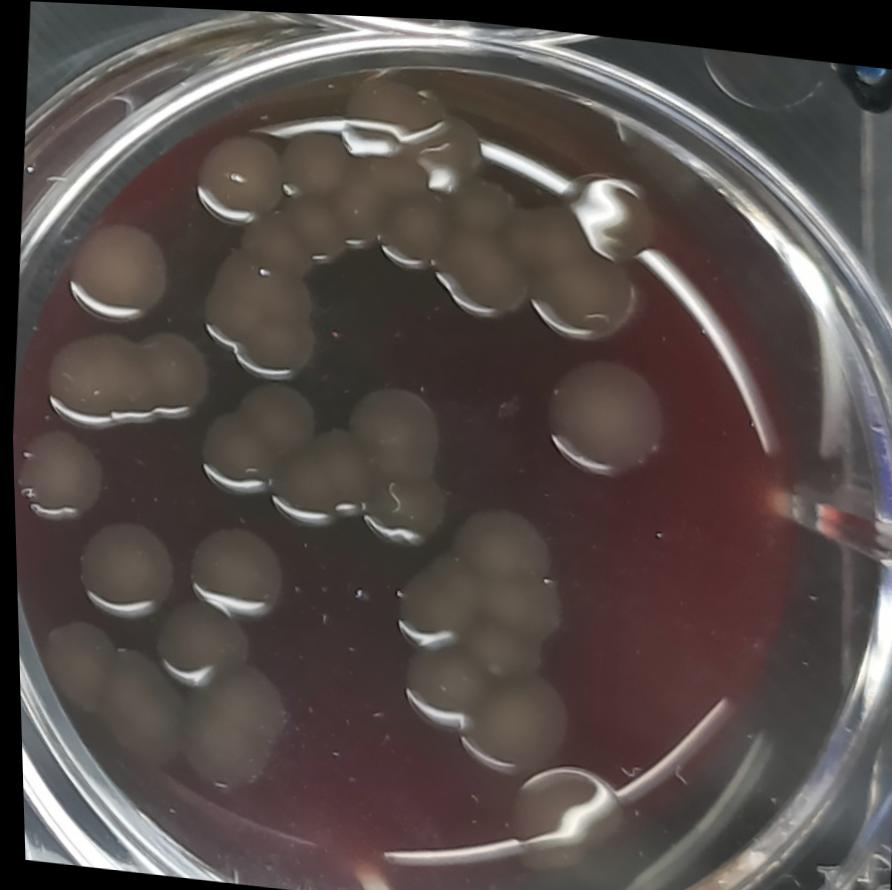vangil: (375, 486, 586, 777), (509, 160, 664, 346), (179, 366, 350, 527), (523, 334, 683, 488), (335, 373, 458, 555), (38, 314, 214, 439), (487, 753, 636, 890), (196, 253, 327, 377), (179, 665, 292, 803), (52, 214, 182, 333), (64, 503, 178, 629), (89, 644, 184, 787), (179, 510, 290, 627), (143, 592, 251, 691), (423, 230, 529, 329), (190, 126, 285, 236), (10, 422, 104, 530), (27, 612, 114, 717), (365, 179, 455, 276), (272, 128, 356, 205), (437, 170, 518, 241)
